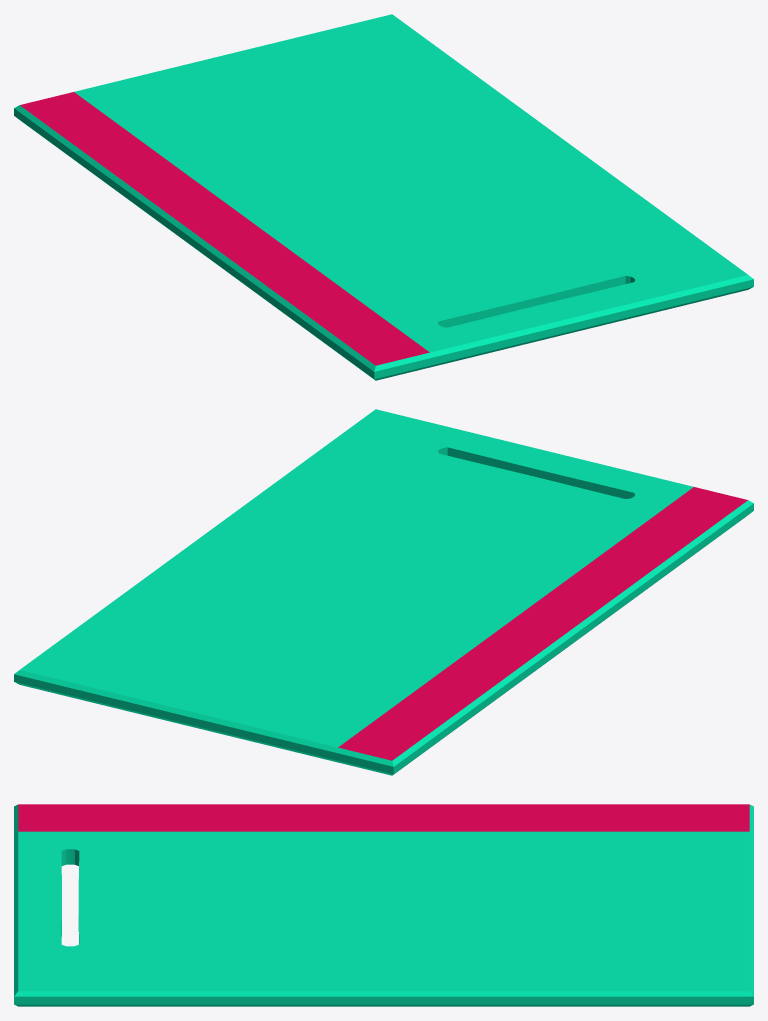
File: Keycard_V1.fbx
3 views of the same model, one above another, from view 1: azimuth 30°, elevation 25°; view 2: azimuth 150°, elevation 25°; view 3: azimuth 270°, elevation 25° (orthographic). The views are drawn at different scales.
Parts seen in each view (by area): view 1: pCube2; view 2: pCube2; view 3: pCube2.
Part boxes in pixels (x1,y1,x2,y2): pCube2: (14,14,753,380); pCube2: (14,409,753,775); pCube2: (14,804,753,1006).
Size of the model in its own units: 3.1 by 0.1171 by 5.1.
